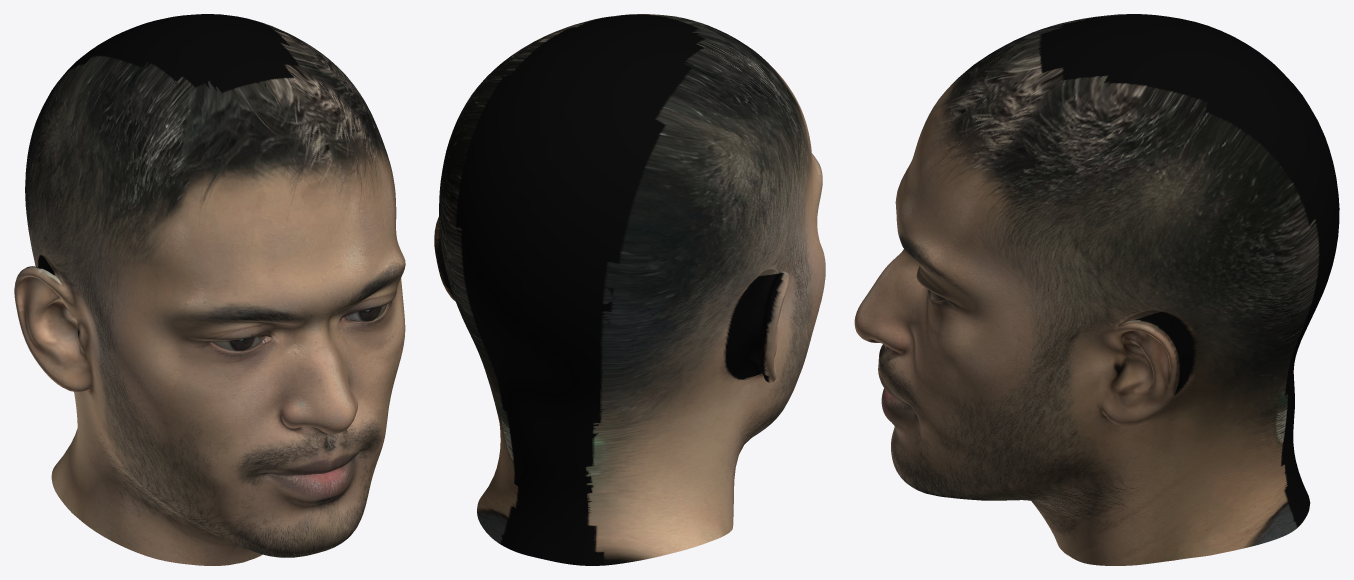
File: 28f7fcf4-92c8-4141-9df3-b02521e7f840_model.glb
3 views of the same model, side by side, from view 1: azimuth 30°, elevation 25°; view 2: azimuth 150°, elevation 25°; view 3: azimuth 270°, elevation 25° (orthographic). The views are drawn at different scales.
Parts seen in each view (by area): view 1: mesh; view 2: mesh; view 3: mesh.
Boxes of the visible parts, box(x1,y1,x2,y2) form: mesh: box(14, 14, 405, 565); mesh: box(434, 14, 825, 565); mesh: box(854, 14, 1339, 565).
Size of the model in its own units: 1.78 by 2.42 by 2.1.
1 material, 1 textured.
